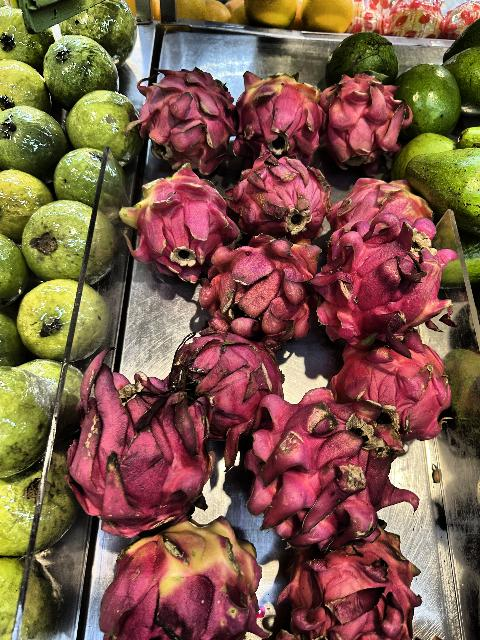buah-naga-belum-matang: (102, 516, 264, 640), (118, 170, 232, 268), (229, 68, 322, 164), (321, 165, 433, 242)
buah-naga-matang: (240, 376, 422, 550), (83, 354, 208, 538), (161, 324, 284, 462), (269, 532, 423, 640), (324, 219, 452, 339), (347, 332, 470, 448), (183, 237, 328, 335), (319, 66, 413, 178), (133, 70, 237, 162), (232, 163, 340, 244)
